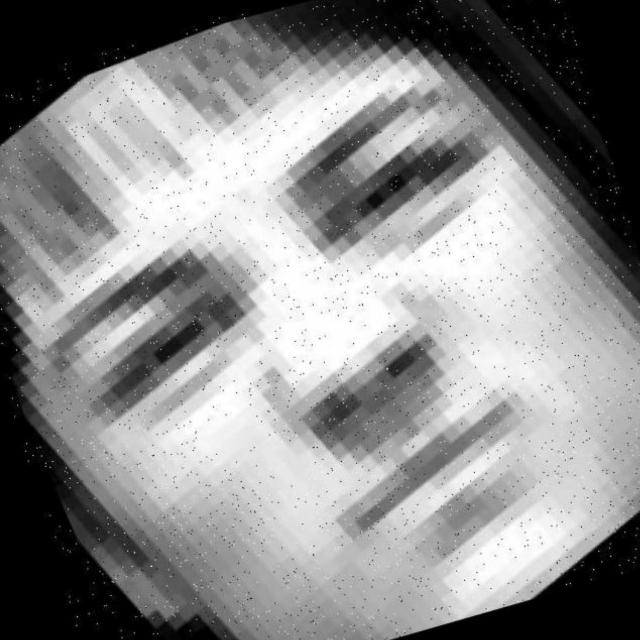Disgust: (64, 35, 640, 595)
